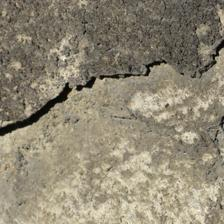Crack: (3, 59, 162, 136), (165, 39, 223, 80)
